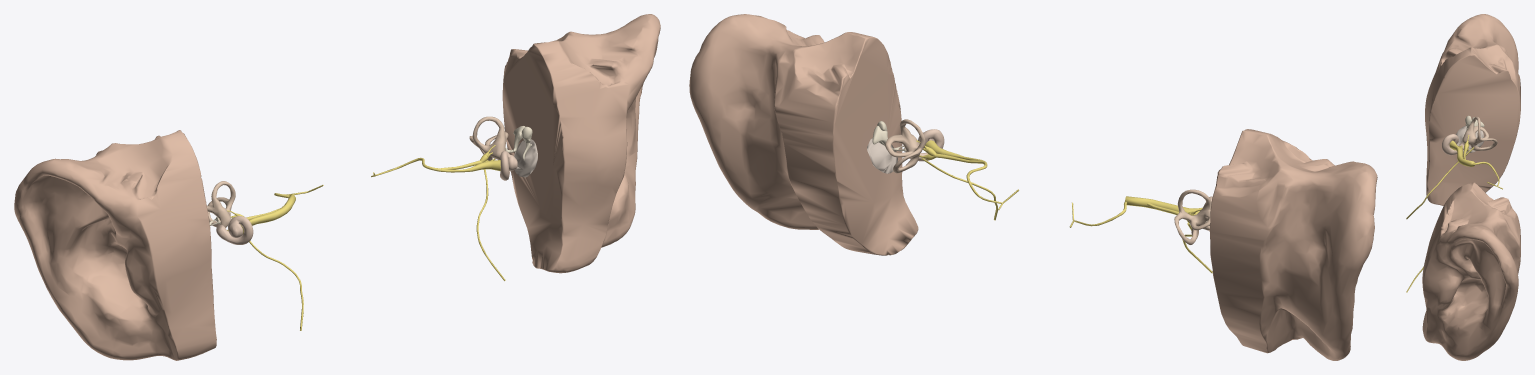
File: zanatomy-ear.glb
3 views of the same model, side by side, from view 1: azimuth 30°, elevation 25°; view 2: azimuth 150°, elevation 25°; view 3: azimuth 270°, elevation 25° (orthographic). The views are drawn at different scales.
Visible parts, largest first — view 1: za_auricle_r, za_auricle_l, za_vestibule_l, za_cochlea_r, za_vestibule_r, za_tympanic_membrane_l; view 2: za_auricle_l, za_auricle_r, za_vestibule_l, za_vestibule_r, za_tympanic_membrane_l; view 3: za_auricle_l, za_auricle_r, za_vestibule_r, za_cochlea_r, za_cochlear_nerve_r, za_tympanic_membrane_r, za_chorda_tympani_r, za_vc_nerve_r.
Part boxes in pixels (x1,y1,x2,y2): za_auricle_r: (14,130,216,360); za_auricle_l: (502,14,660,273); za_vestibule_l: (469,116,508,160); za_cochlea_r: (216,216,253,244); za_vestibule_r: (207,181,235,227); za_tympanic_membrane_l: (514,139,537,177); za_auricle_l: (689,14,918,255); za_auricle_r: (1210,129,1377,360); za_vestibule_l: (885,119,925,173); za_vestibule_r: (1174,189,1211,244); za_tympanic_membrane_l: (867,138,897,173); za_auricle_l: (1422,182,1520,360); za_auricle_r: (1425,14,1520,205); za_vestibule_r: (1462,116,1497,150); za_cochlea_r: (1442,134,1464,155); za_cochlear_nerve_r: (1449,140,1475,166); za_tympanic_membrane_r: (1456,126,1483,152); za_chorda_tympani_r: (1406,147,1473,219); za_vc_nerve_r: (1473,161,1502,189).
Bounding box in the file's own units: 0.1865 × 0.0587 × 0.0392.
